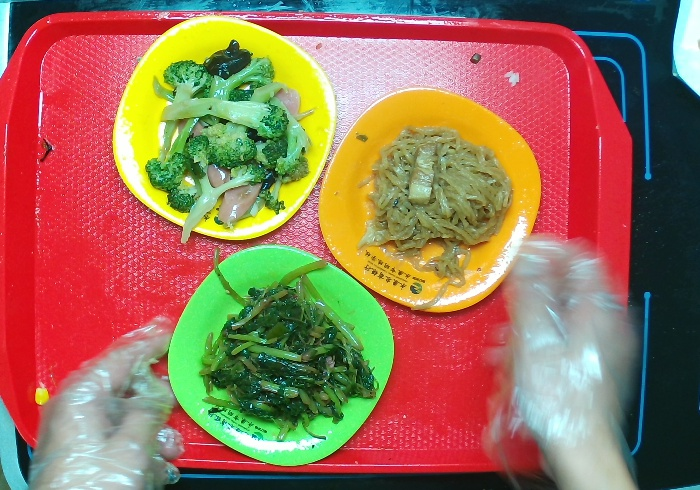YKMZ-Huang_Se_Fang_Die: (113, 17, 335, 241)
YKMZ-Ju_Se_Fang_Die: (315, 87, 545, 315)
YKMZ-Lv_Se_Fang_Die: (166, 244, 397, 468)
